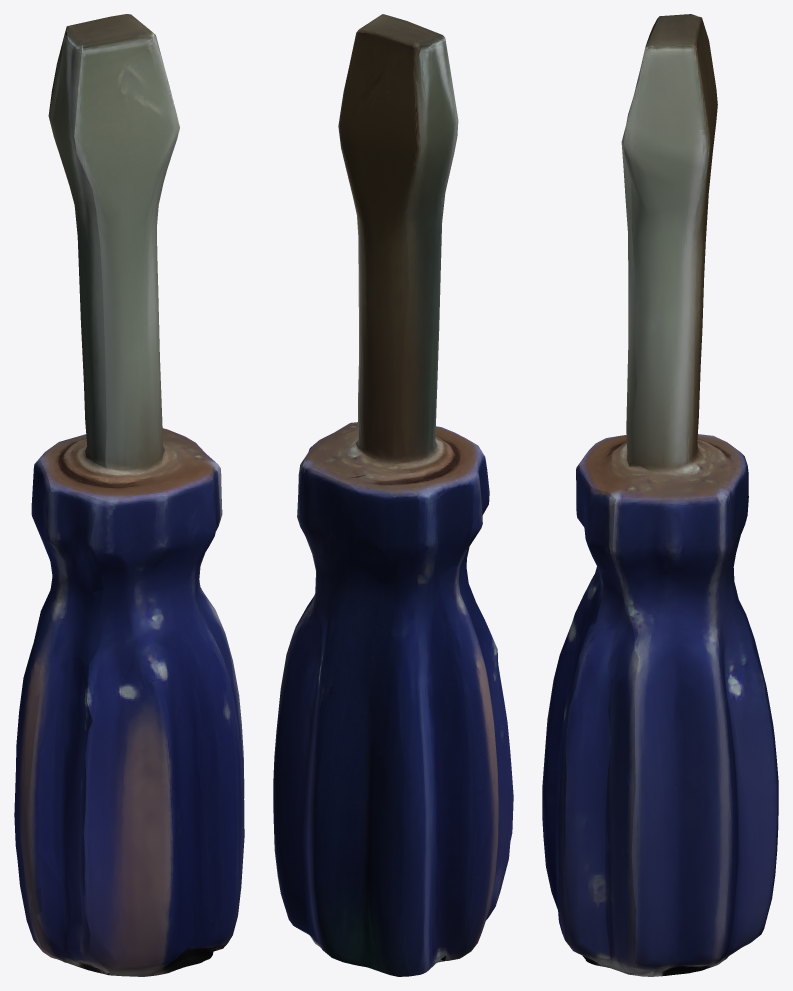
The picture shows the model from 3 angles, left to right: view 1: azimuth 30°, elevation 25°; view 2: azimuth 150°, elevation 25°; view 3: azimuth 270°, elevation 25°; orthographic projection.
Parts seen in each view (by area): view 1: geometry_0; view 2: geometry_0; view 3: geometry_0.
Boxes of the visible parts, left/top/right/bottom form: geometry_0: left=14, top=14, right=244, bottom=976; geometry_0: left=273, top=14, right=513, bottom=976; geometry_0: left=542, top=14, right=778, bottom=976.
Bounding box in the file's own units: 0.0335 × 0.141 × 0.0334.
